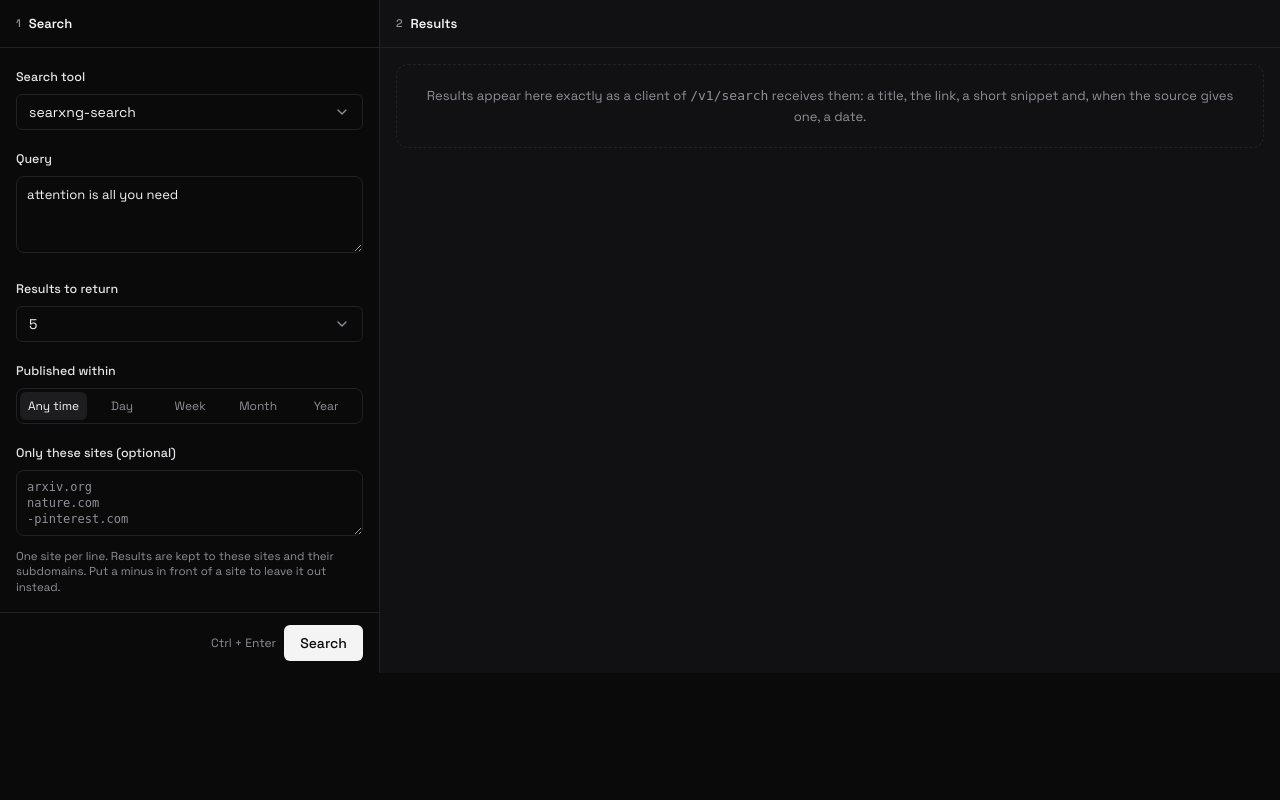
SearchWorkspace › shows each result's title, site, date and snippet, and the run's details
This screenshot has width=1280, height=800.
Click the button with aria-label "Run search" at (324, 643), box [284,625,363,661]
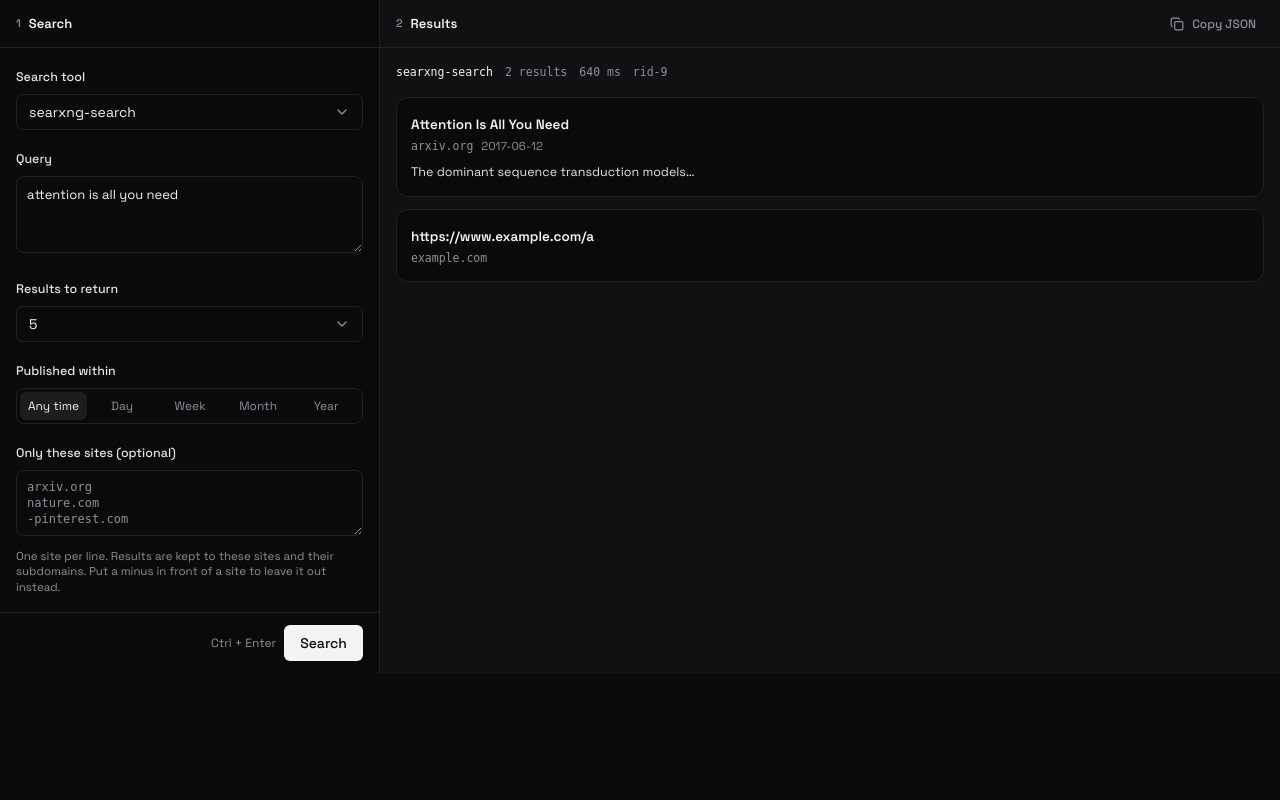
Expected: the text "Attention Is All You Need" is shown, [411,116,589,135]
Expected: the text "arxiv.org" is shown, [411,138,473,156]
Expected: the text "2017-06-12" is shown, [481,138,543,156]
